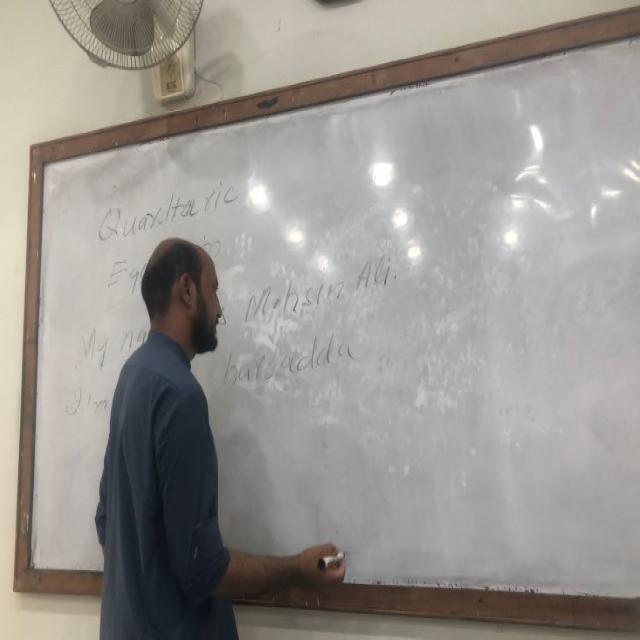Instructor: (118, 219, 236, 640)
White-board: (25, 12, 640, 632)
